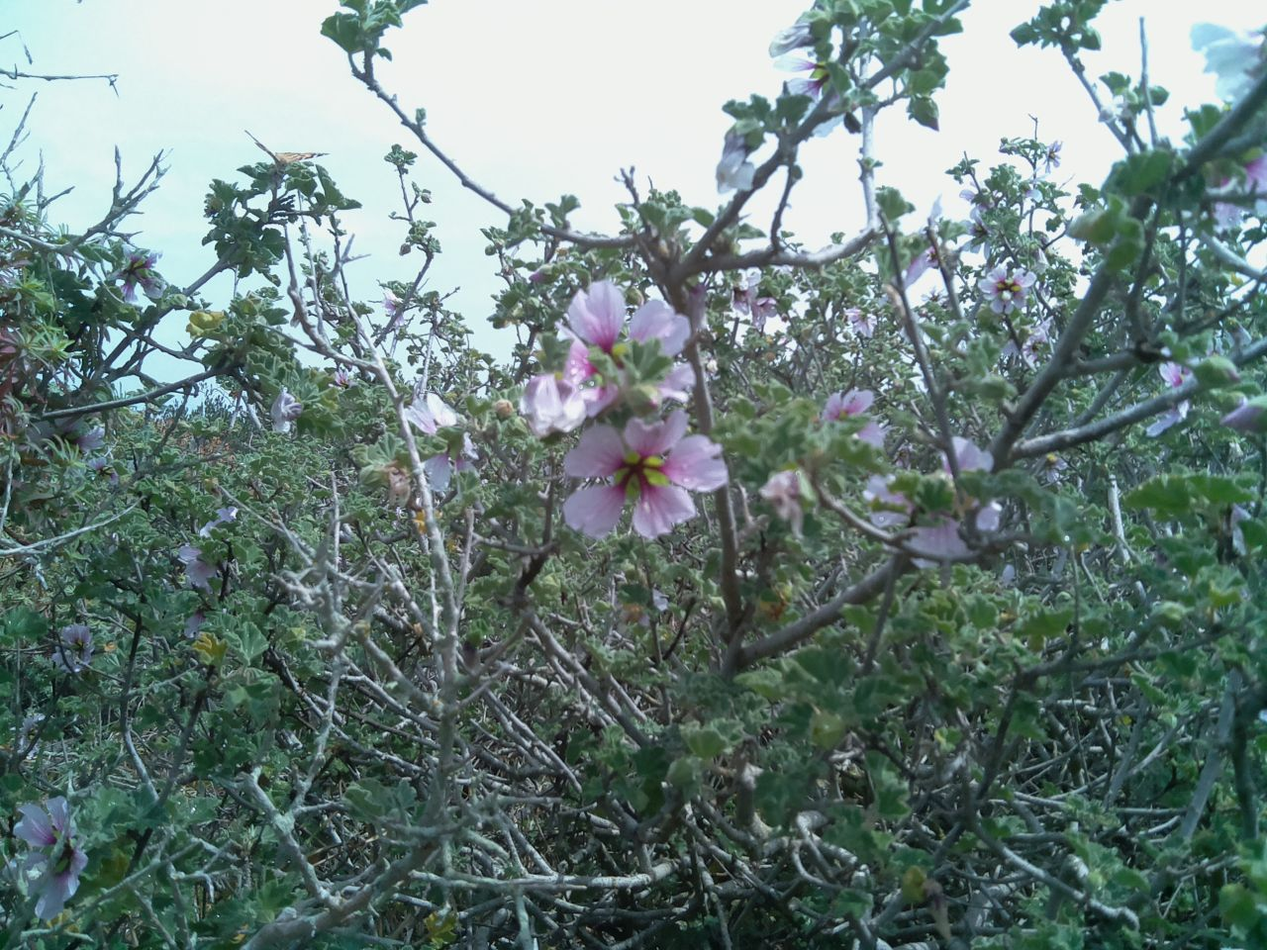Vanessa cardui: (224, 126, 334, 178)
